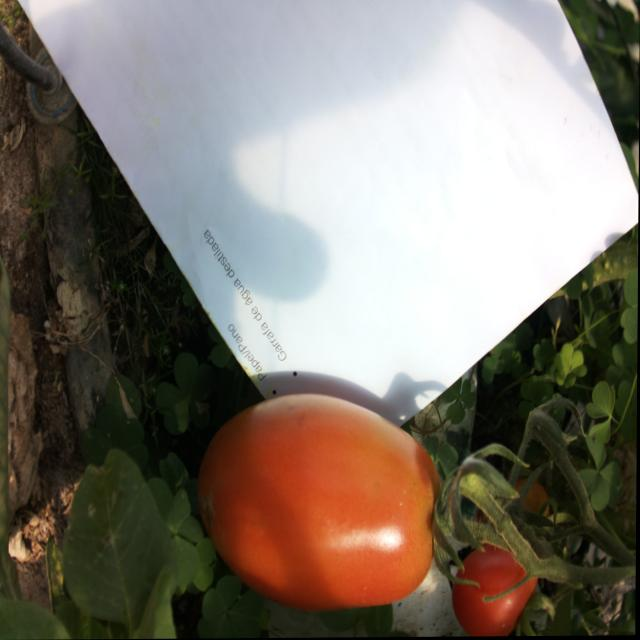kirmizi: (180, 291, 563, 639)
